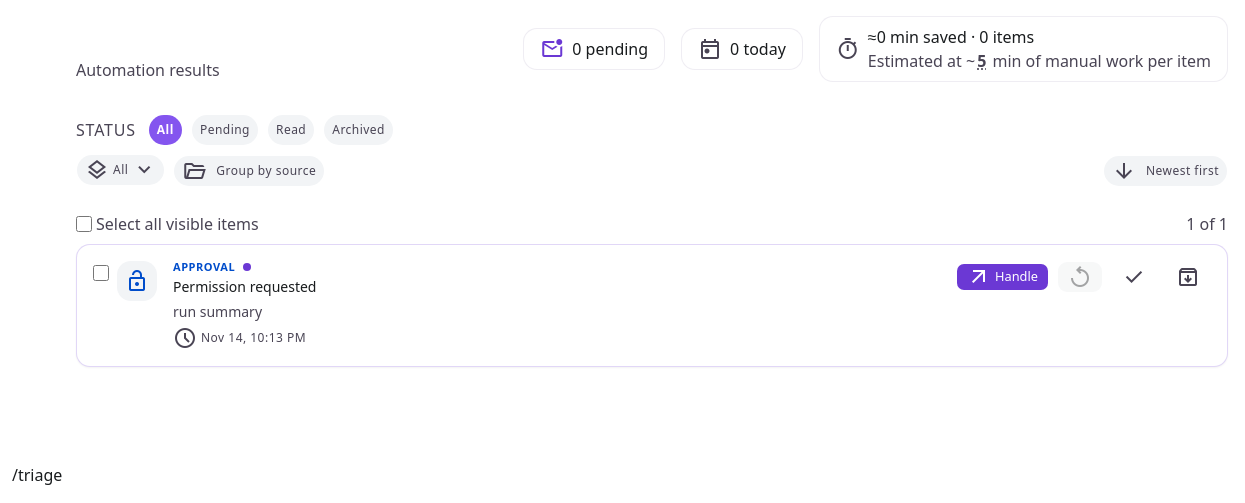
Scenario: Triage — session sources, skill candidates and pending pinning (IA T6/X1) › shows「Handle」as the primary action for a session_approval item, toasts the guidance and switches to it
Click the button with aria-label "Open the session to handle the waiting approval request": (1002, 277) [956, 263, 1049, 291]
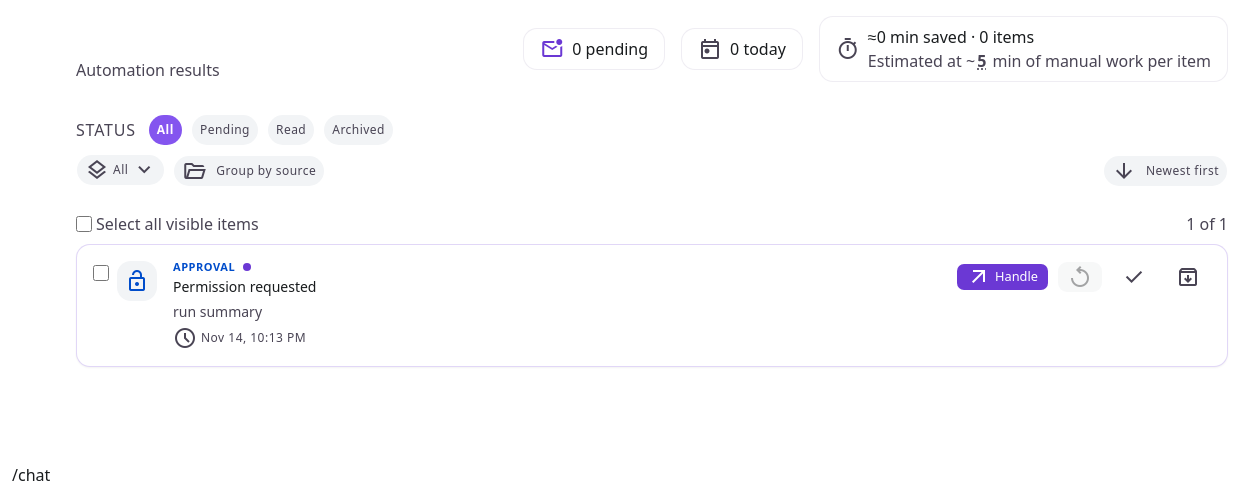
expect the text with test id "location" reads "/chat": met, box [12, 464, 50, 486]
